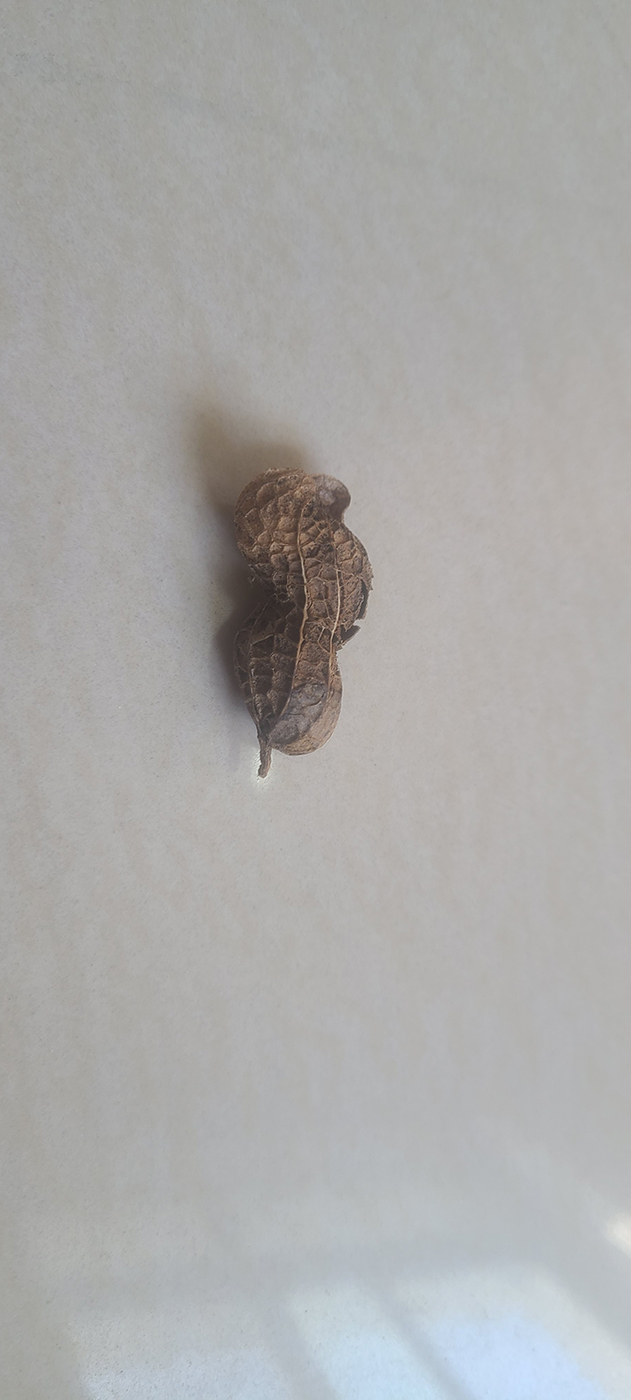l: (222, 469, 372, 758)
